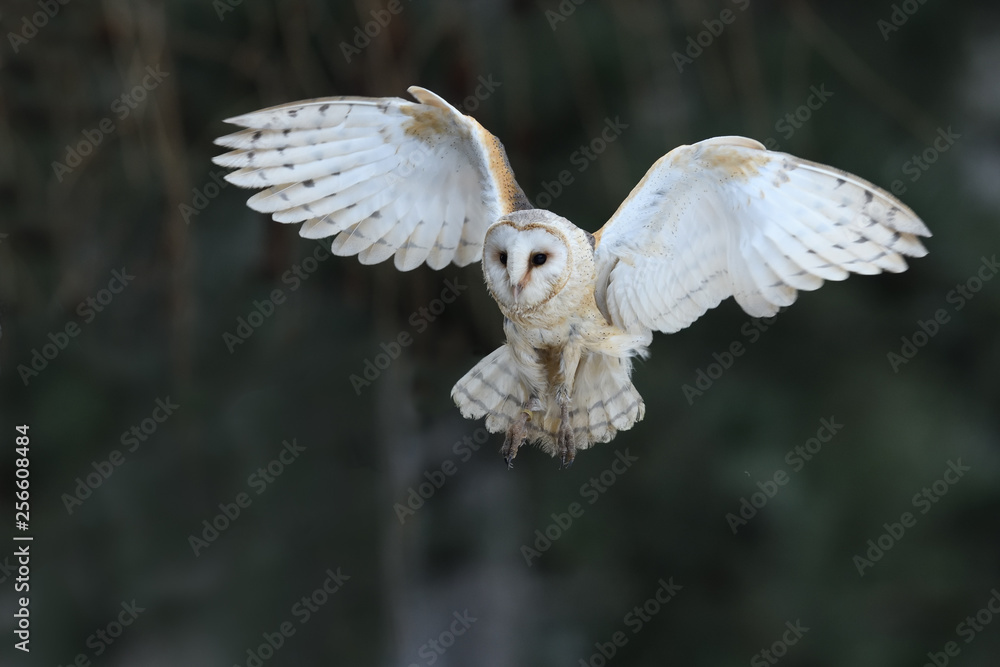owl: (183, 78, 944, 458)
